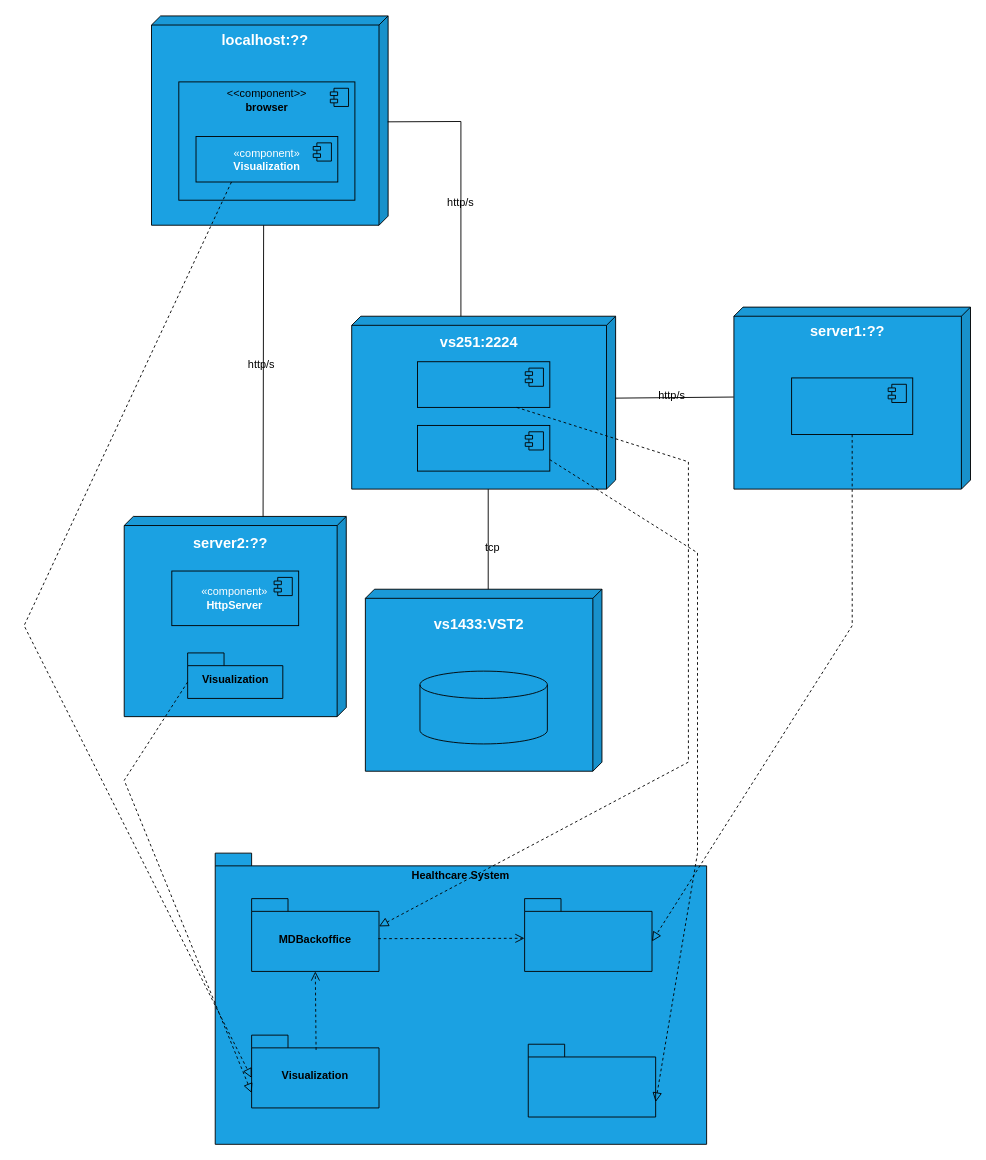
Image size: 986x1160. Some labels were removed from this diagram. The shapes that lost their labels are listed below. From the top down, each one's centre as x and y in pixels, then its label:
point 483,384: «component» MDBackoffice
point 852,406: «component» Planning
point 483,448: «component» BCP
point 483,707: <<Database>> MySQL
point 588,934: Planning
point 591,1080: BCP
